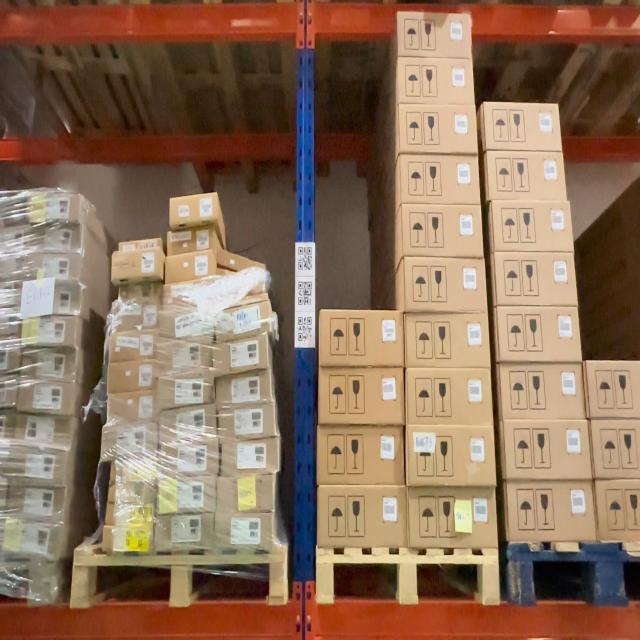box: (507, 486, 591, 540), (322, 428, 401, 483), (408, 371, 492, 421), (323, 371, 402, 424), (320, 492, 403, 542), (505, 426, 587, 475), (410, 431, 493, 479), (499, 310, 578, 360), (324, 314, 399, 366), (501, 370, 582, 418), (411, 494, 495, 540), (403, 210, 482, 256), (408, 264, 486, 310), (408, 320, 489, 364), (403, 157, 478, 203), (498, 255, 573, 299), (488, 104, 560, 148), (400, 12, 470, 57), (398, 109, 474, 150), (496, 207, 570, 249), (400, 60, 472, 101), (491, 154, 562, 195), (219, 478, 273, 512), (215, 513, 272, 542), (103, 427, 158, 457), (161, 481, 215, 509), (222, 443, 278, 470), (220, 406, 274, 433), (162, 444, 217, 470), (165, 376, 212, 406), (158, 517, 212, 543), (217, 341, 268, 368), (109, 390, 152, 422), (108, 361, 153, 390), (162, 311, 215, 335), (160, 338, 210, 363), (166, 412, 216, 437), (218, 379, 272, 401), (111, 331, 154, 358), (114, 255, 158, 280), (110, 461, 156, 483), (170, 198, 215, 220), (104, 530, 150, 550), (107, 507, 152, 527), (168, 284, 213, 304), (114, 305, 156, 326), (167, 258, 214, 276), (169, 231, 213, 250), (110, 487, 154, 499)
